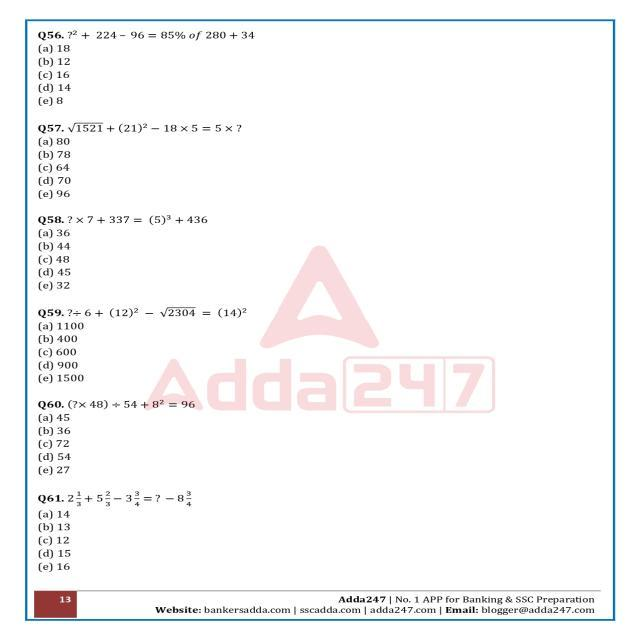Answer_Block: (26, 508, 615, 582), (26, 228, 615, 300), (26, 138, 615, 206), (26, 323, 615, 391), (26, 414, 615, 482), (26, 46, 615, 113)
Question_Answer_Block: (26, 483, 615, 582), (26, 114, 615, 206), (26, 209, 615, 300), (26, 22, 615, 112), (26, 392, 615, 482), (26, 301, 615, 391)
Question_Block: (26, 21, 615, 46), (26, 484, 615, 509), (26, 114, 615, 136), (26, 392, 615, 414), (26, 302, 615, 322), (26, 208, 615, 226)
Question_Paper_Area: (26, 22, 615, 622)
